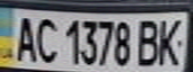1: (60, 16, 81, 65)
3: (78, 17, 100, 66)
7: (96, 17, 115, 66)
8: (112, 17, 136, 68)
A: (9, 12, 39, 63)
B: (133, 16, 163, 68)
C: (33, 13, 60, 64)
K: (154, 15, 187, 67)
